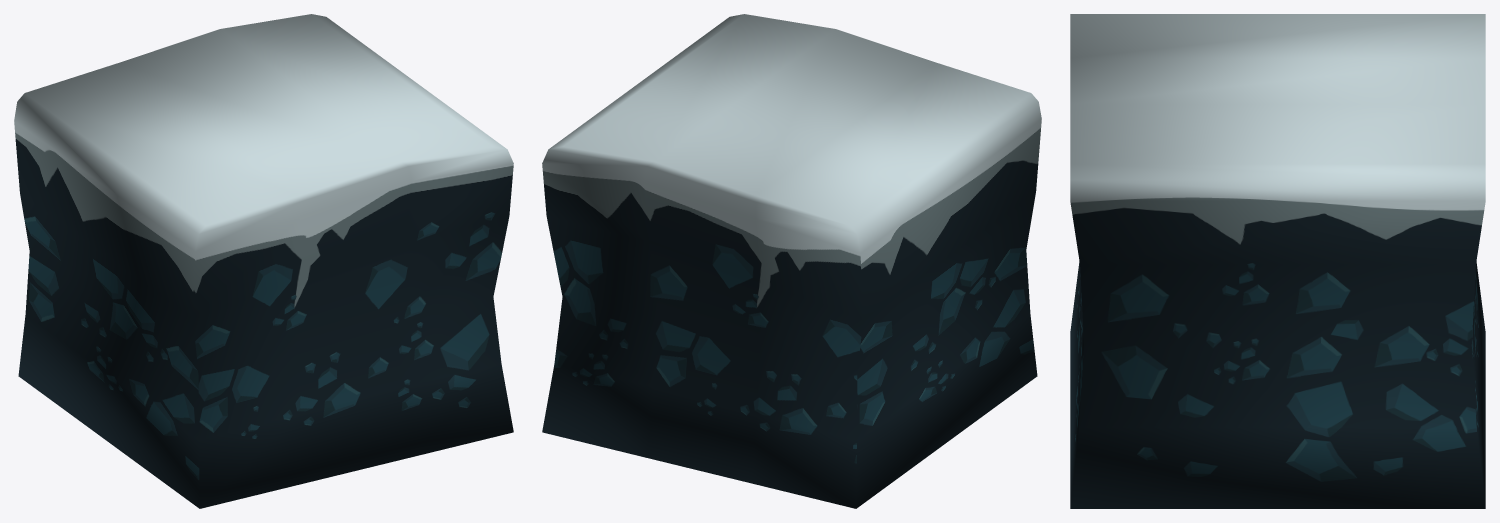
The model's file is Plataforma 2.fbx.
The picture shows the model from 3 angles, left to right: view 1: azimuth 30°, elevation 25°; view 2: azimuth 150°, elevation 25°; view 3: azimuth 270°, elevation 25°; orthographic projection. The views are drawn at different scales.
Visible parts, largest first — view 1: plataforma_menor.001; view 2: plataforma_menor.001; view 3: plataforma_menor.001.
Boxes of the visible parts, left/top/right/bottom form: plataforma_menor.001: left=14, top=14, right=513, bottom=508; plataforma_menor.001: left=542, top=14, right=1041, bottom=508; plataforma_menor.001: left=1070, top=14, right=1485, bottom=508.
Bounding box in the file's own units: 912 × 816 × 900.
